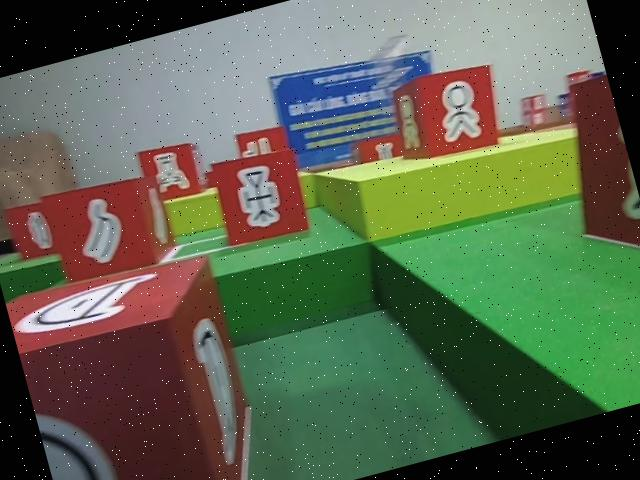R2 Real: (4, 241, 276, 480), (542, 70, 640, 302), (31, 162, 186, 290), (383, 57, 513, 172), (204, 138, 315, 253), (130, 132, 209, 207)
